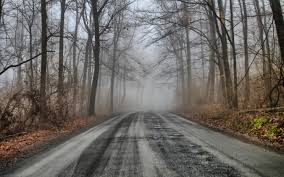strada: (3, 119, 280, 177)
